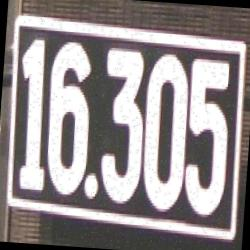LicensePlate: (0, 14, 250, 242)
